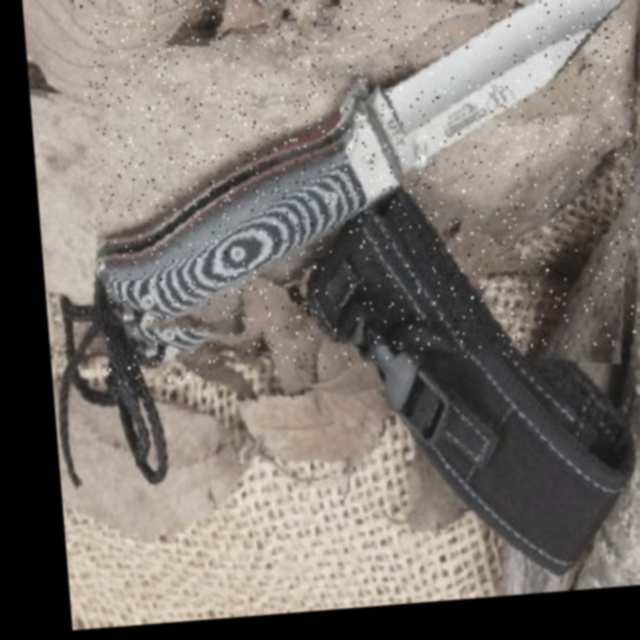Sharp-Object: (74, 0, 640, 386)
